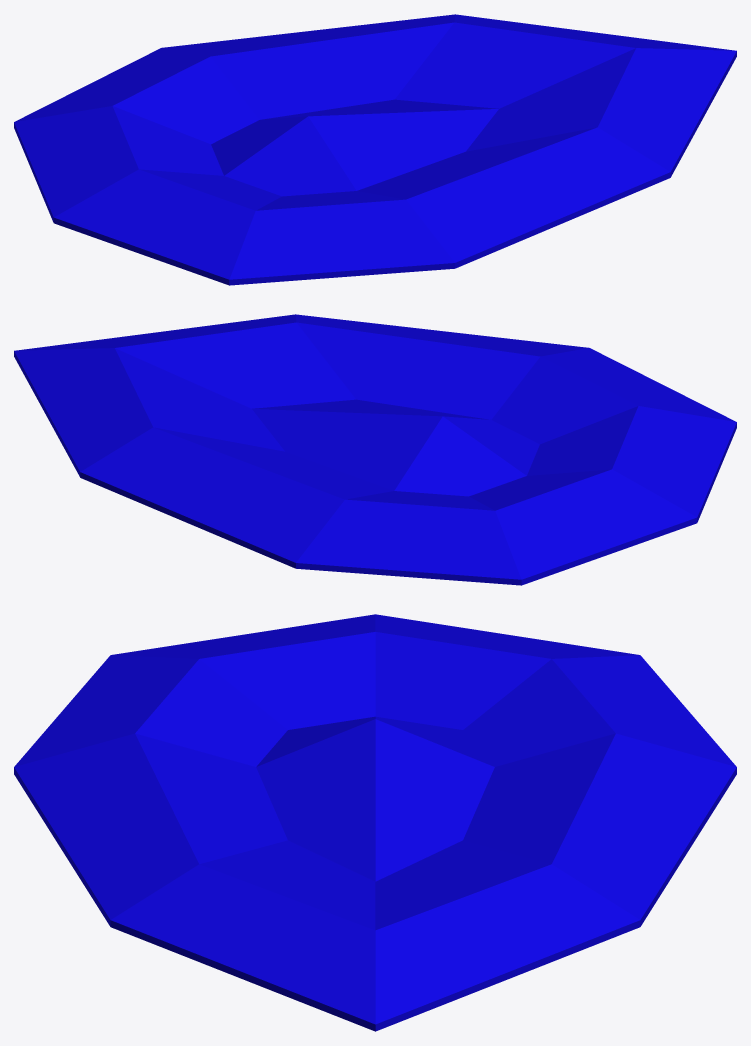
File: rockBlue.fbx
The picture shows the model from 3 angles, top to bottom: view 1: azimuth 30°, elevation 25°; view 2: azimuth 150°, elevation 25°; view 3: azimuth 270°, elevation 25°; orthographic projection. The views are drawn at different scales.
Visible parts, largest first — view 1: Plane; view 2: Plane; view 3: Plane.
Boxes of the visible parts, x1,y1,x2,y2 form: Plane: (14,14,736,285); Plane: (14,314,736,585); Plane: (14,614,736,1031).
Bounding box in the file's own units: 33.58 × 3.62 × 25.02.
